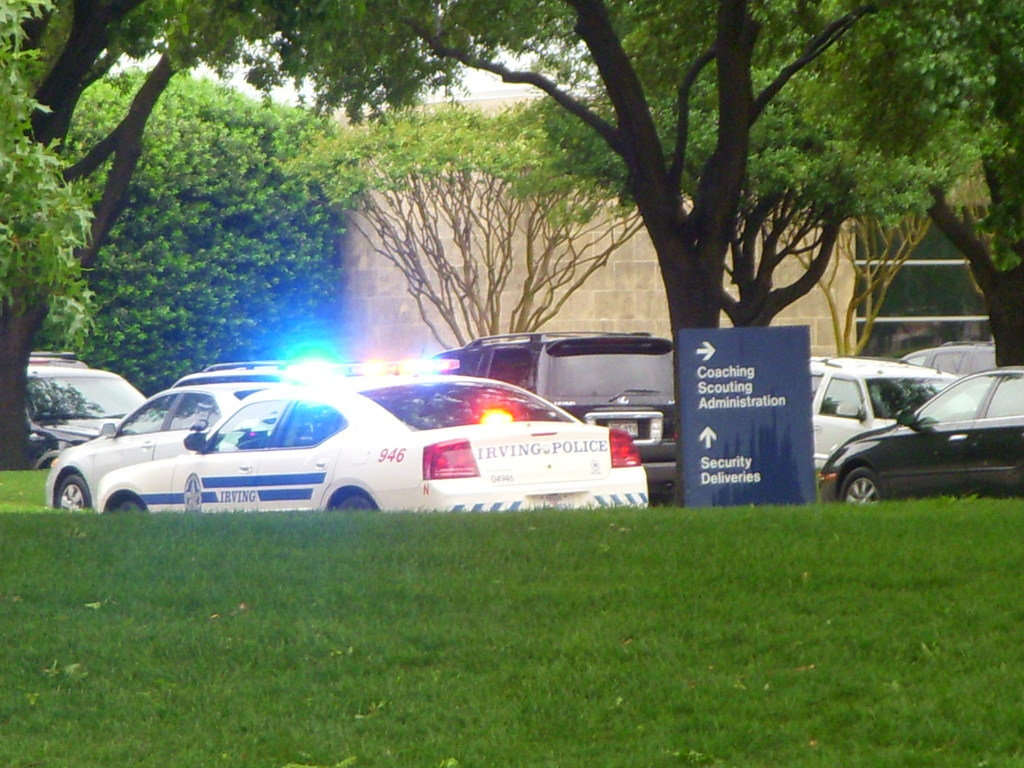Car: (26, 329, 1023, 513)
